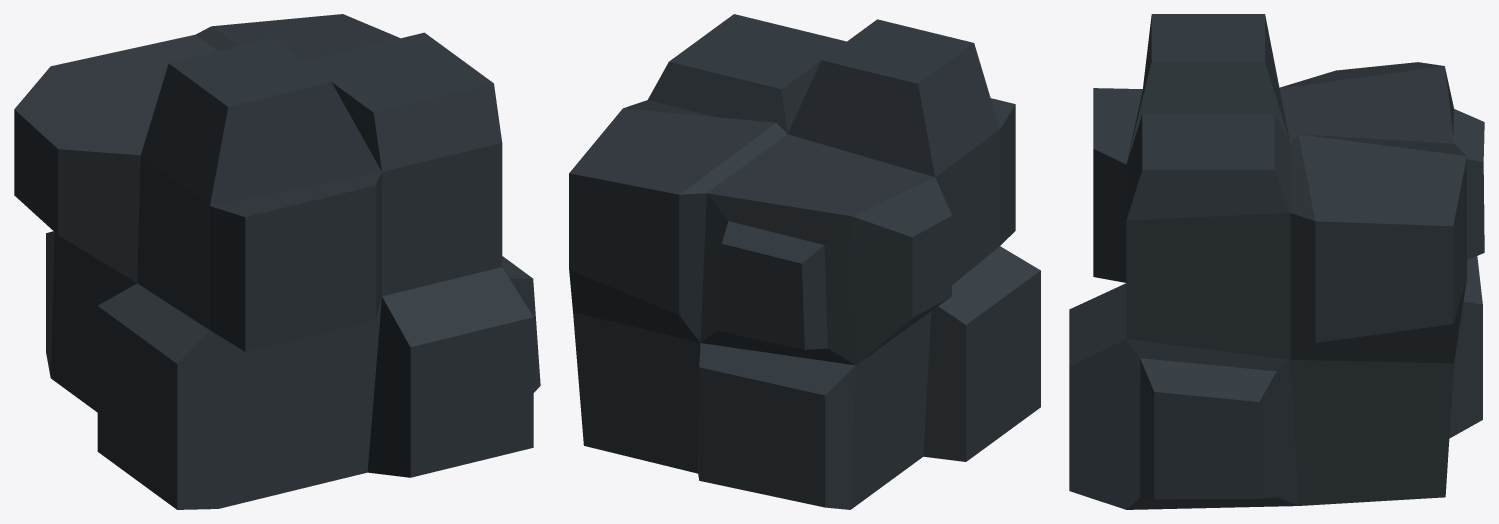
File: rock.fbx
3 renders of one model, left to right at view 1: azimuth 30°, elevation 25°; view 2: azimuth 150°, elevation 25°; view 3: azimuth 270°, elevation 25°, orthographic. The views are drawn at different scales.
Visible parts, largest first — view 1: Cube; view 2: Cube; view 3: Cube.
Part boxes in pixels (x1,y1,x2,y2): Cube: [14, 14, 540, 509]; Cube: [569, 14, 1040, 509]; Cube: [1069, 14, 1484, 509].
Size of the model in its own units: 545 by 533 by 560.
